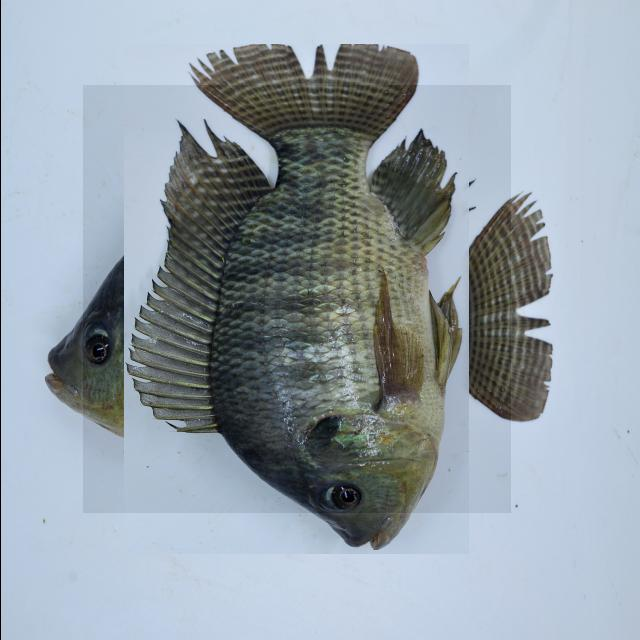Healthy Fish: (82, 85, 510, 513)
